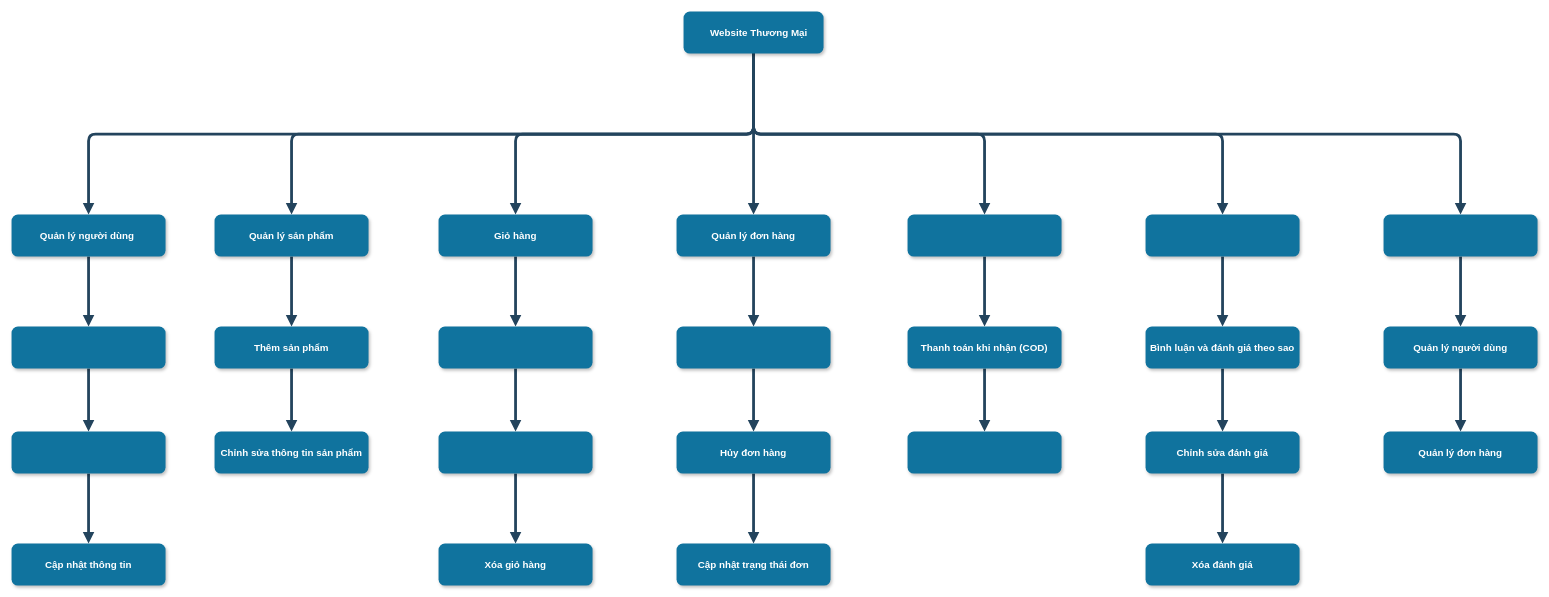
The diagram is 1549 pixels wide and 597 high, and some of its shapes have lost their labels. The shapes that lost their labels are listed below. From the top down, each one's centre as x and y in pixels, then its label:
At point 984,236: "Thanh toán".
At point 1222,236: "Đánh giá sản phẩm".
At point 1460,236: "Quản lý Admin".
At point 88,348: "Đăng ký".
At point 515,348: "Thêm sản phẩm vào giỏ hàng".
At point 753,348: "Trạng thái đơn hàng".
At point 88,453: "Đăng Nhập".
At point 515,453: "Cập nhật thông tin giỏ hàng".
At point 984,453: "Thanh toán online".
